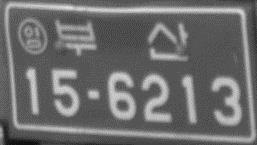-: (84, 87, 102, 101)
1: (178, 75, 200, 126), (23, 66, 40, 116)
2: (139, 73, 173, 124)
3: (210, 75, 242, 126)
5: (50, 67, 80, 118)
6: (106, 70, 138, 120)
부산_D: (54, 16, 191, 63)
영: (17, 16, 49, 56)
